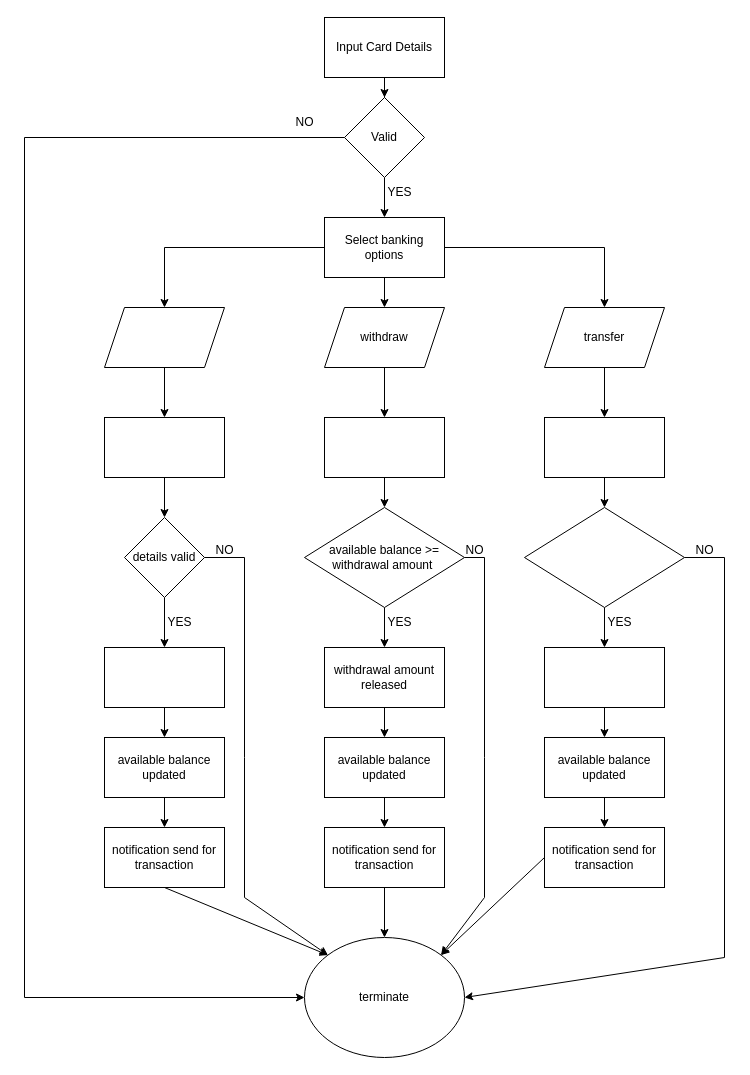
This 750x1075 diagram has some shape labels left out. The shapes that lost their labels are listed below. From the top down, each one's box as (x1, y1, x2, y2) in pixels, then its label:
(104, 306, 224, 368): deposit
(104, 416, 224, 478): Enter details deposit amount
(324, 416, 444, 478): Enter withdrawal amount
(544, 416, 664, 478): Enter details and amount to be transfer
(524, 506, 684, 608): details valid && available balance >= transfer amount
(104, 646, 224, 708): amount deposited
(544, 646, 664, 708): amount transfered
